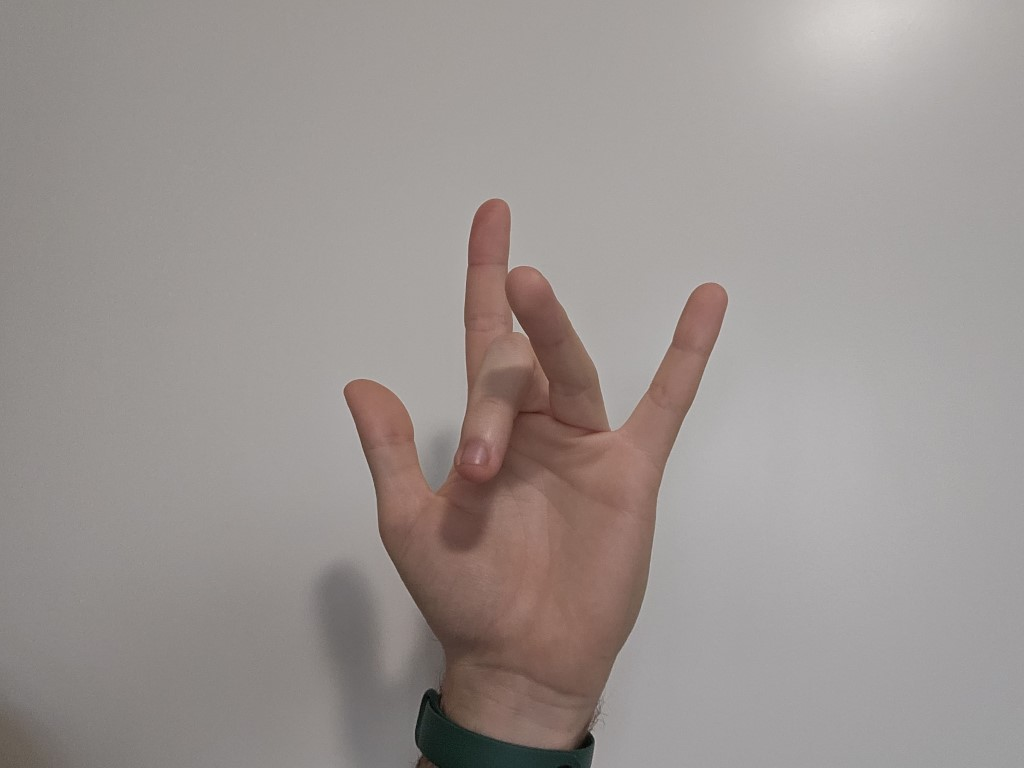reset: (304, 114, 759, 695)
